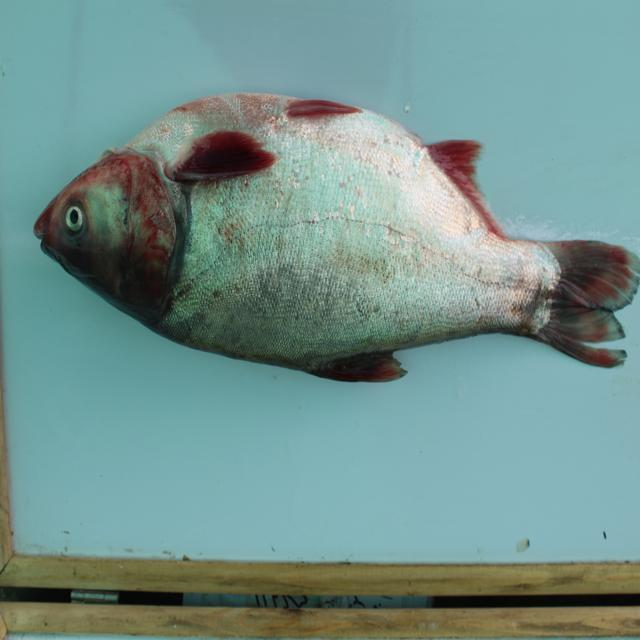SilverCarp: (53, 110, 630, 412)
